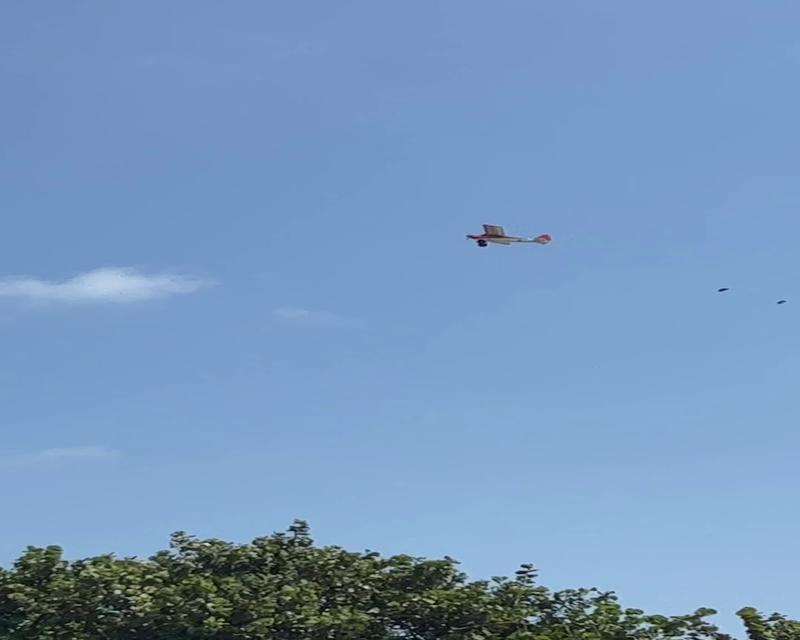UAV: (467, 223, 551, 249)
